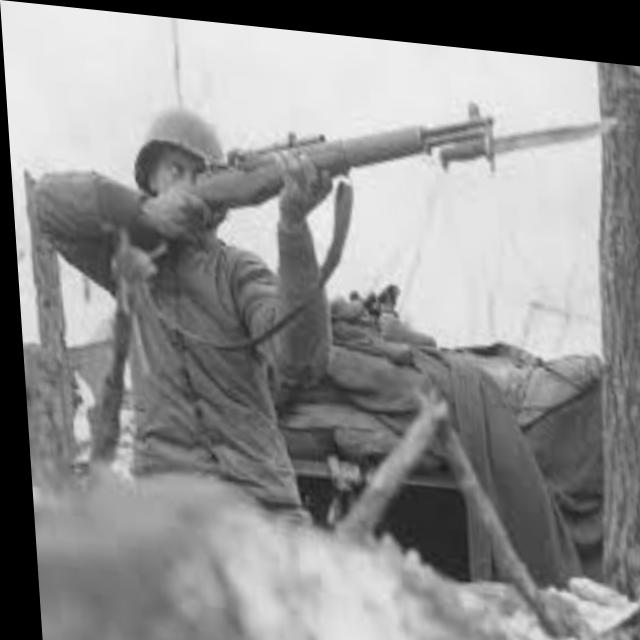other: (45, 95, 329, 481)
